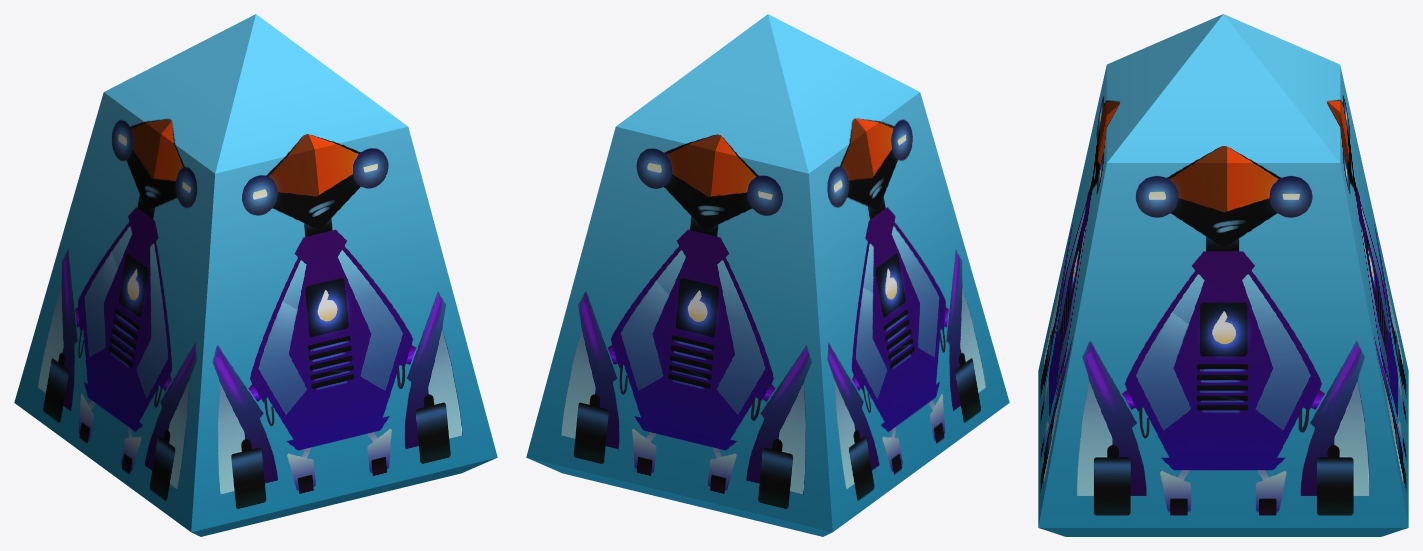
File: villain2.glb
The picture shows the model from 3 angles, left to right: view 1: azimuth 30°, elevation 25°; view 2: azimuth 150°, elevation 25°; view 3: azimuth 270°, elevation 25°; orthographic projection. The views are drawn at different scales.
Parts seen in each view (by area): view 1: Villain2; view 2: Villain2; view 3: Villain2.
Part boxes in pixels (bbox=[...]): Villain2: bbox=[14, 14, 497, 536]; Villain2: bbox=[526, 14, 1009, 536]; Villain2: bbox=[1038, 14, 1408, 536].
Bounding box in the file's own units: 2 × 2.72 × 2.
Materials: 1 (1 with a texture image).
